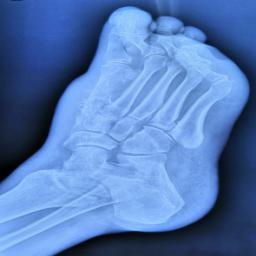cancer: (76, 64, 138, 137)
